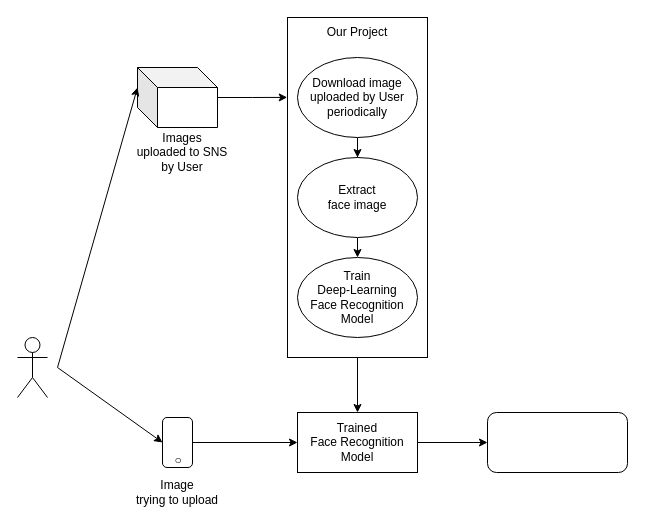
Some shapes in this 645 by 525 pixel diagram are drawn without their labels. The centre of each missing label's shape, as x and y in pixels:
"Tags #person1, #person2..." goes at (x=557, y=442).
"User" goes at (x=32, y=367).
